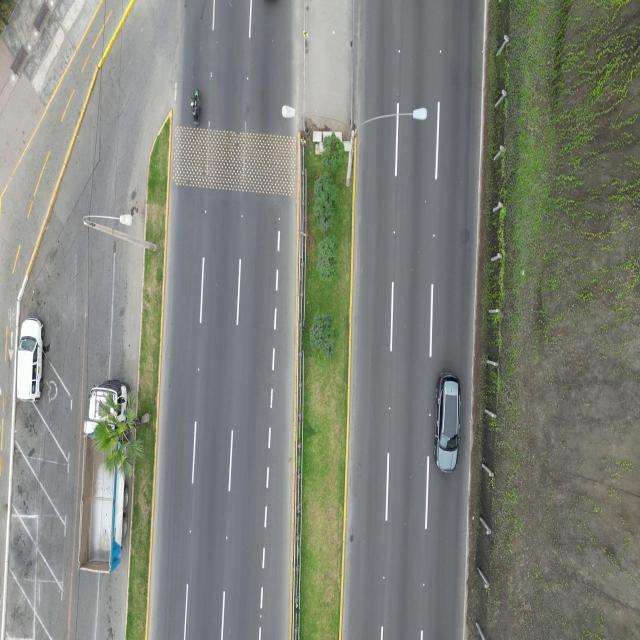Car: (431, 368, 465, 475), (15, 315, 48, 403)
Cycle: (190, 87, 202, 127)
Truck: (78, 376, 138, 583)
